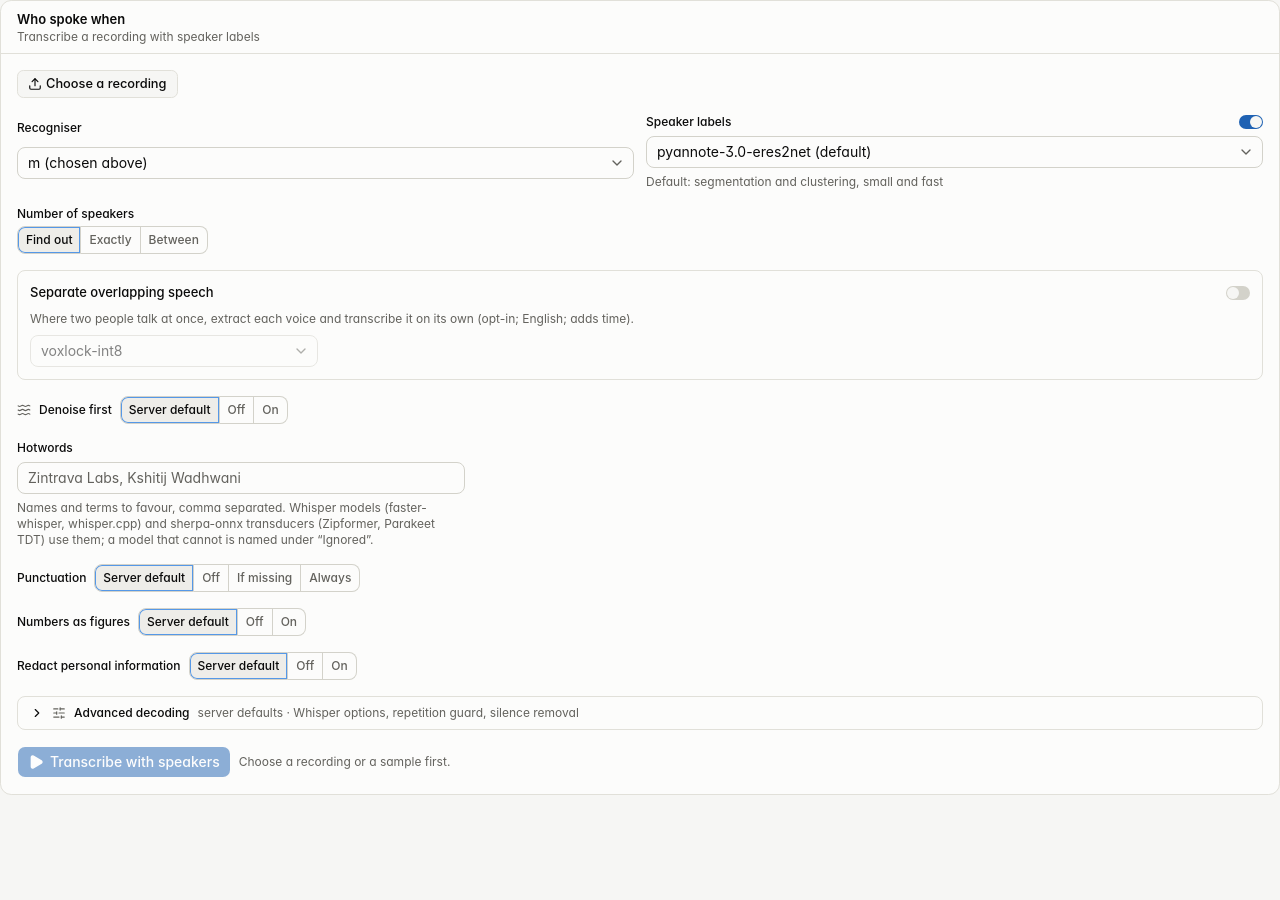
SpeakersPanel › explains why separation is off without speaker labels
Step 1. Click the switch with test id "diarize-toggle" → (1251, 122), box 1239,115 -> 1263,129
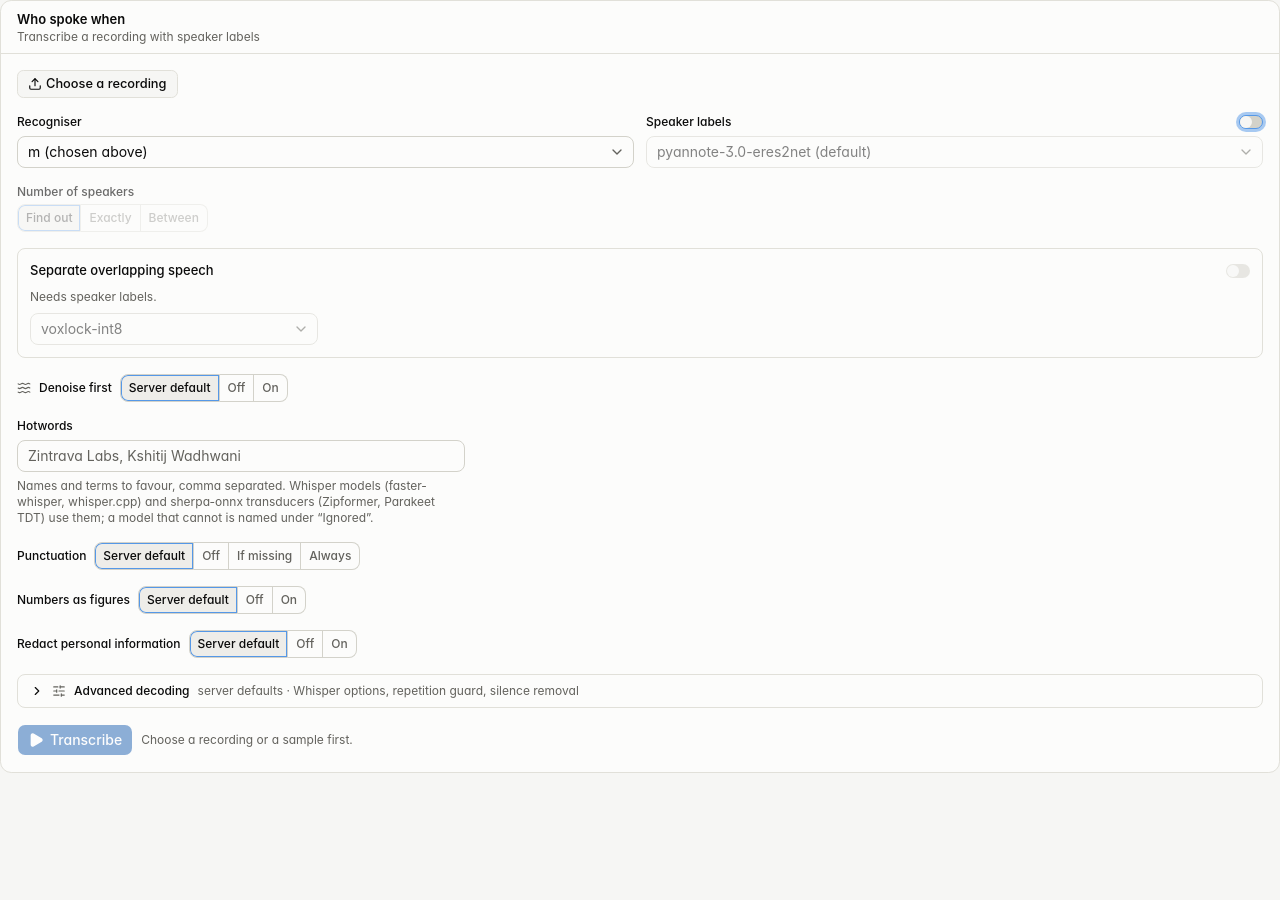
Check: the switch with test id "separate-toggle" is disabled, box 1226,264 -> 1250,278
Check: the text "Needs speaker labels." is shown, box 30,288 -> 157,304
